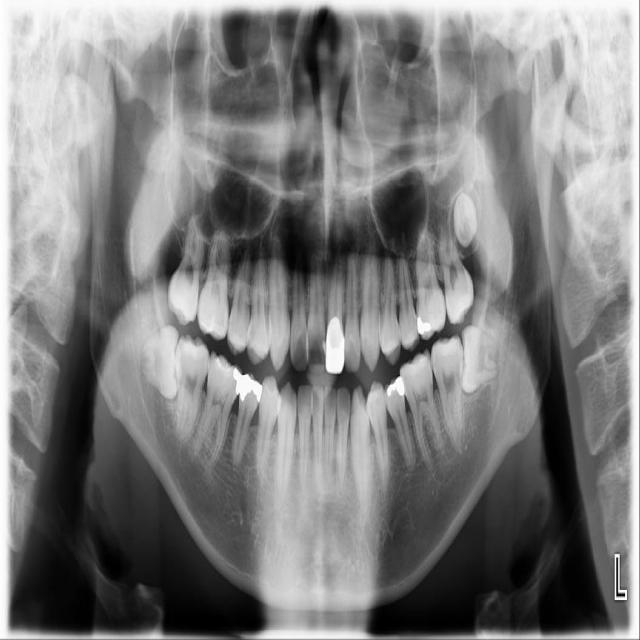52: (192, 348, 255, 408), (424, 333, 472, 387), (170, 331, 216, 387), (396, 348, 437, 404), (443, 266, 477, 327), (414, 286, 449, 340), (197, 284, 229, 342), (232, 369, 267, 418), (305, 314, 326, 373), (381, 376, 408, 421), (325, 318, 345, 375)
73: (608, 557, 614, 565)
BioHorizons Implant: (432, 208, 479, 326)
BioLife Implant: (452, 192, 478, 248)
Biomet 3i Implant: (456, 324, 502, 396)
Blue Sky Bio Implant: (430, 333, 467, 451)
Caries: (164, 202, 210, 328)
Implant: (174, 333, 210, 444)
Keystone Dental Implant: (135, 324, 188, 405)
